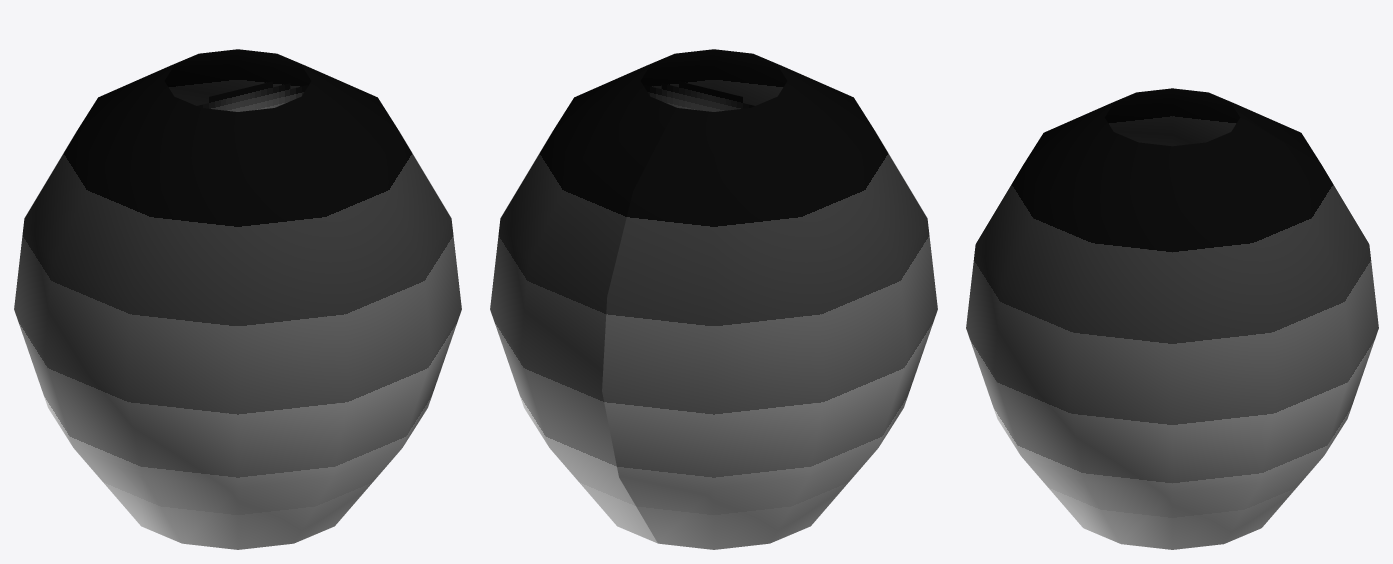
File: bubble1.dae
3 views of the same model, side by side, from view 1: azimuth 30°, elevation 25°; view 2: azimuth 150°, elevation 25°; view 3: azimuth 270°, elevation 25° (orthographic). The views are drawn at different scales.
Parts seen in each view (by area): view 1: n0b0, n2b2; view 2: n0b0, n2b2; view 3: n0b0.
Boxes of the visible parts, bbox=[...] form: n0b0: bbox=[14, 49, 461, 549]; n2b2: bbox=[197, 81, 307, 111]; n0b0: bbox=[490, 49, 937, 549]; n2b2: bbox=[644, 81, 754, 111]; n0b0: bbox=[966, 88, 1378, 549].
Bounding box in the file's own units: 98.21 × 107 × 98.21.
Materials: 2 (2 with a texture image).
